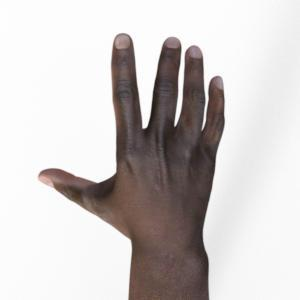paper: (39, 34, 224, 300)
